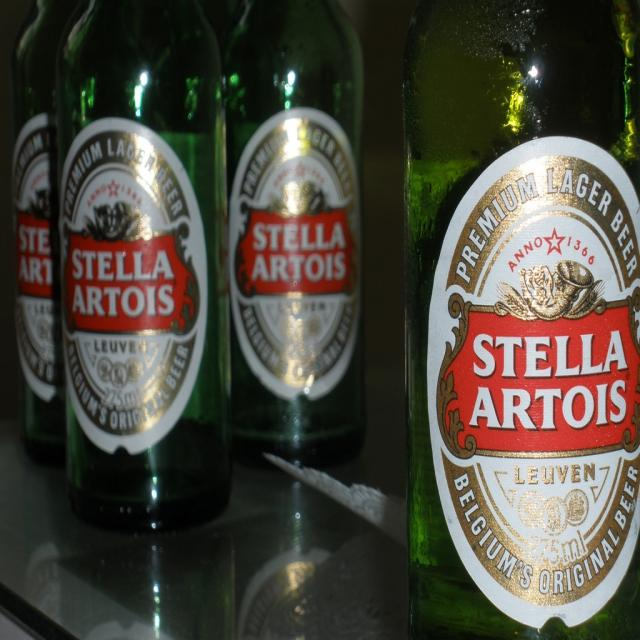stellaartois: (438, 155, 640, 608), (60, 128, 205, 436), (236, 119, 360, 388), (11, 128, 61, 386)
